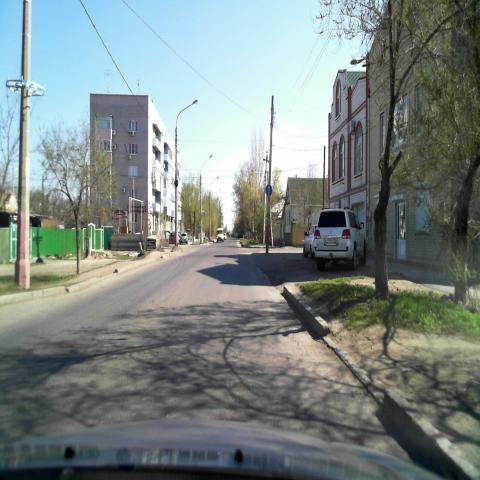4_1_1: (265, 183, 273, 197)
